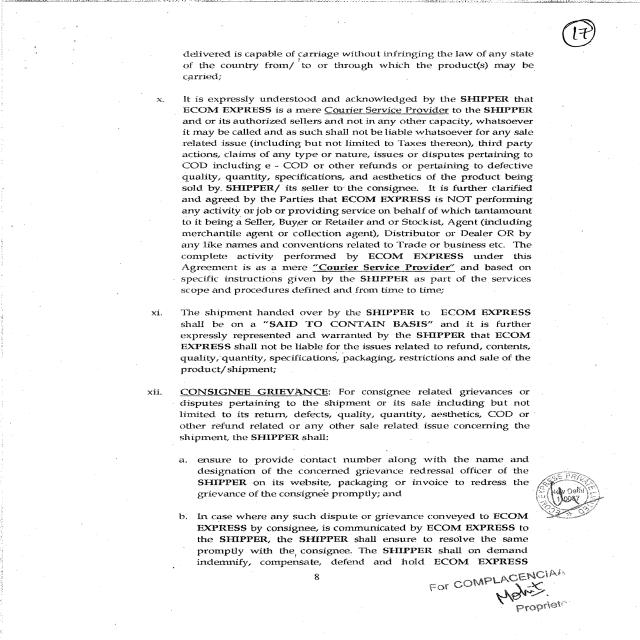page-number: (0, 0, 640, 51)
